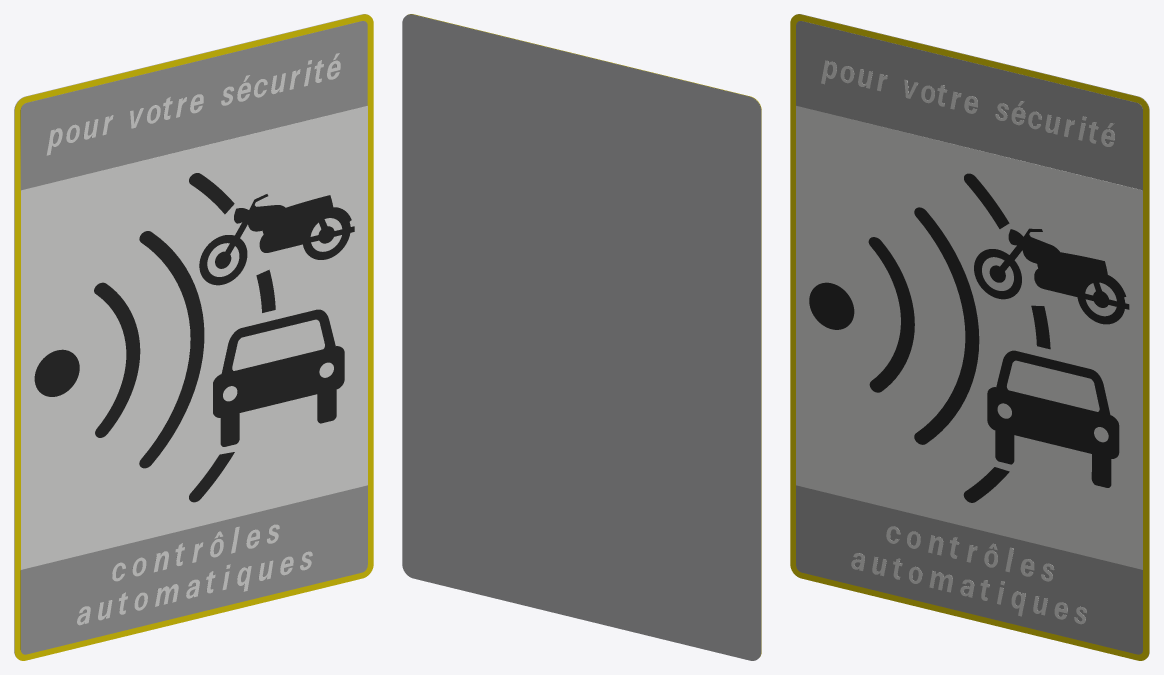
3 renders of one model, left to right at view 1: azimuth 30°, elevation 25°; view 2: azimuth 150°, elevation 25°; view 3: azimuth 330°, elevation 25°, orthographic.
Visible parts, largest first — view 1: SR3a_p02, SR3a_p01, SR3a_p04, SR3a_p00, SR3a_p05, SR3a_p03, SR3a_dos; view 2: SR3a_dos, SR3a_p00; view 3: SR3a_p02, SR3a_p01, SR3a_p04, SR3a_p00, SR3a_p05, SR3a_p03, SR3a_dos.
Part boxes in pixels (box(x1,y1,x2,y2)): SR3a_p02: box(21, 106, 367, 569); SR3a_p01: box(20, 21, 367, 654); SR3a_p04: box(34, 194, 354, 446); SR3a_p00: box(14, 14, 373, 660); SR3a_p05: box(46, 53, 340, 625); SR3a_p03: box(139, 173, 275, 502); SR3a_dos: box(14, 14, 367, 656); SR3a_dos: box(402, 14, 761, 660); SR3a_p00: box(408, 14, 761, 656); SR3a_p02: box(796, 106, 1142, 569); SR3a_p01: box(796, 21, 1142, 654); SR3a_p04: box(809, 228, 1129, 487); SR3a_p00: box(790, 14, 1149, 660); SR3a_p05: box(821, 60, 1114, 624); SR3a_p03: box(914, 173, 1050, 502); SR3a_dos: box(796, 14, 1149, 656).
Size of the model in its own units: 0.7 by 1.05 by 0.0039.
